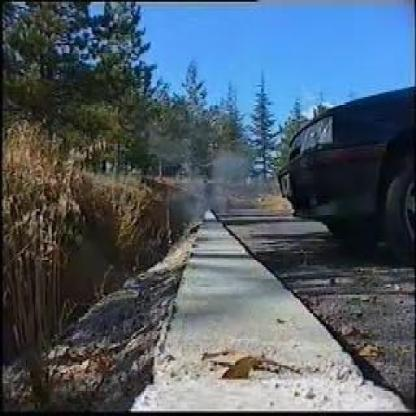-: (166, 135, 242, 232)
